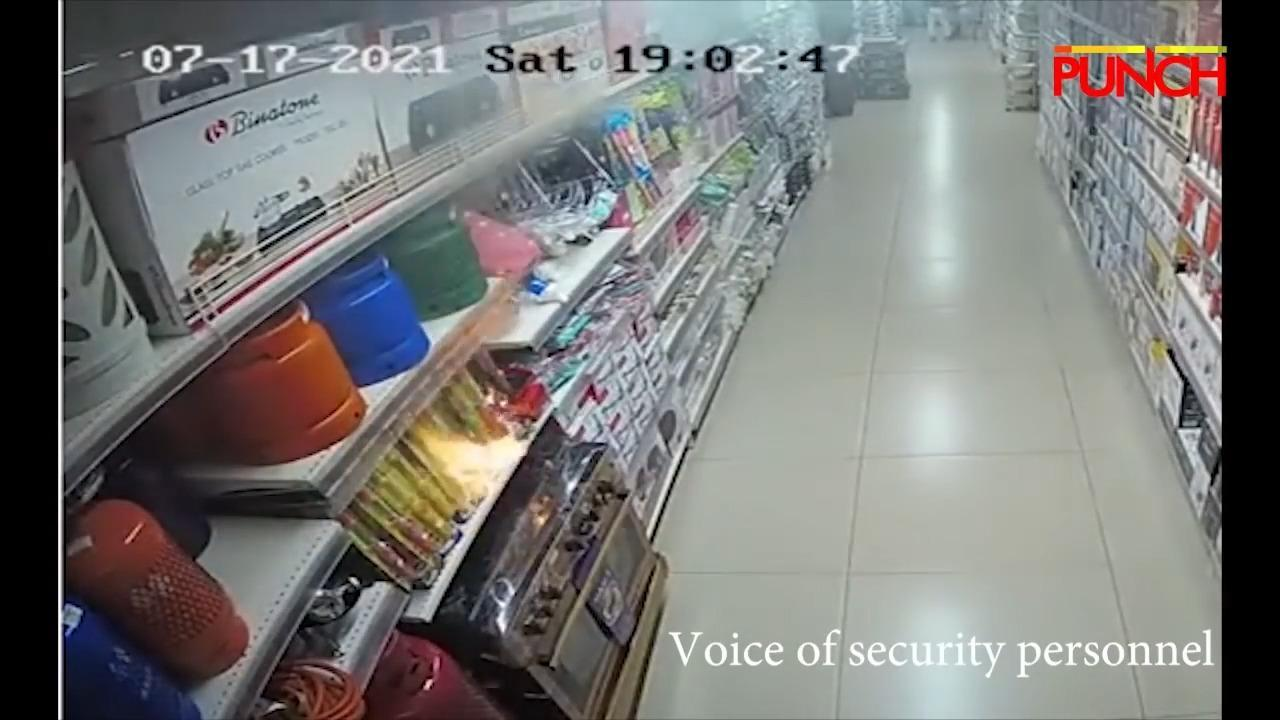fire: (407, 418, 525, 501)
